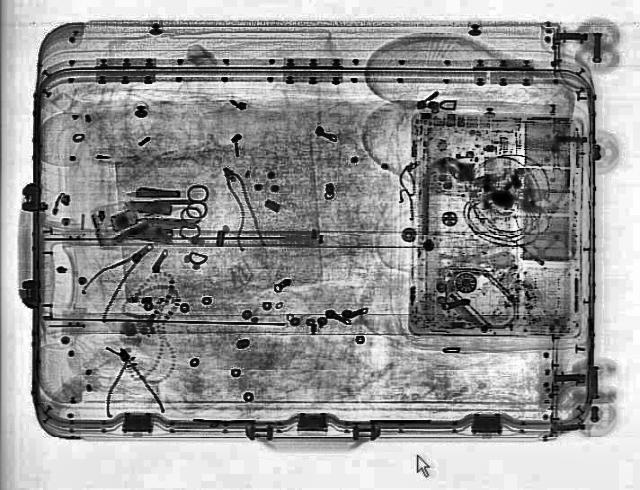Scissors: (142, 185, 210, 217), (140, 208, 200, 236)
